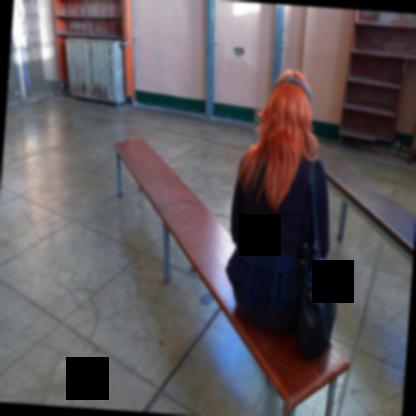handbag: (298, 159, 339, 359)
